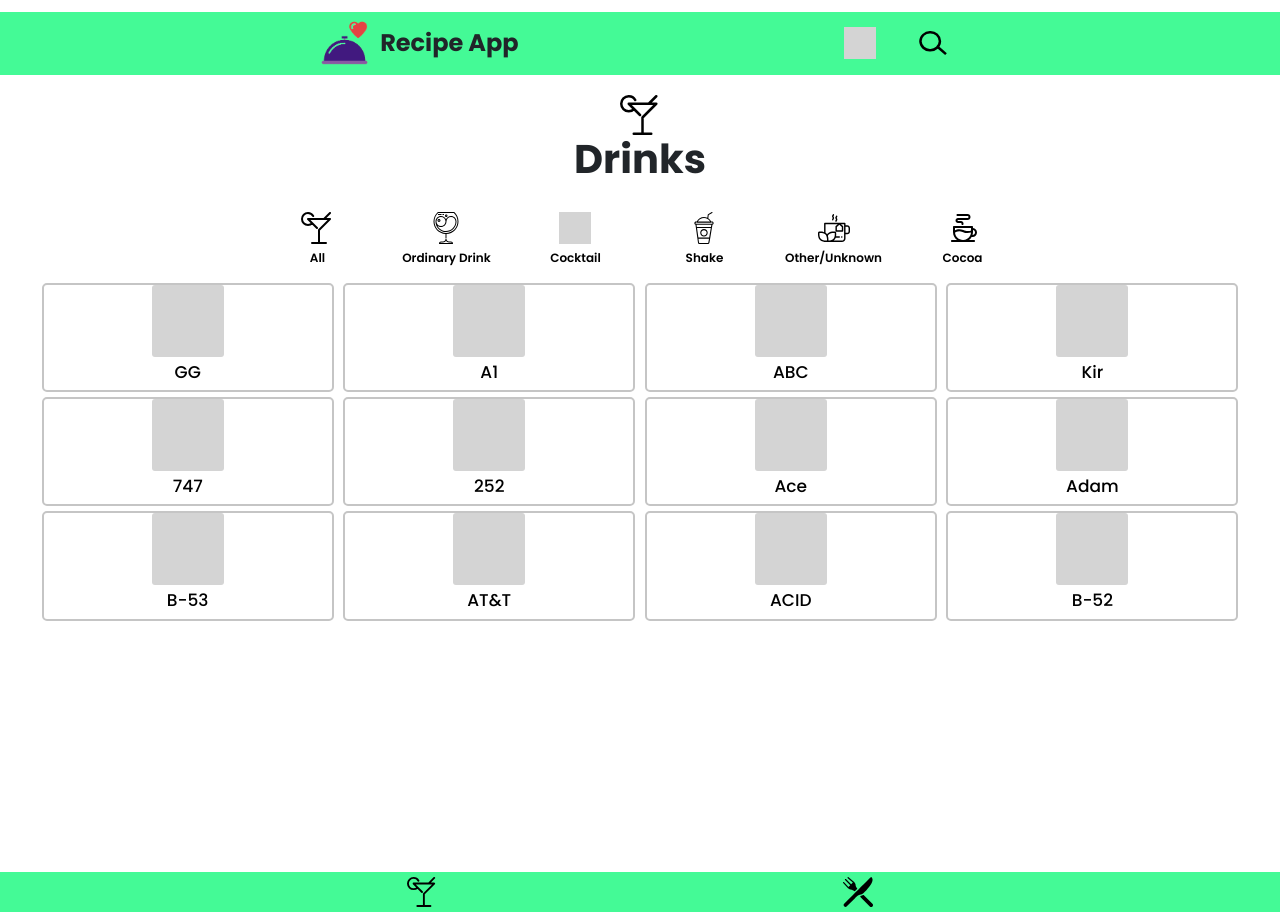
Teste da rota "/drinks" › Verifica o filtro pela categoria "Cocktail"
Click the button with test id "Cocktail-category-filter". click: click(575, 239)
box: [514, 210, 637, 268]
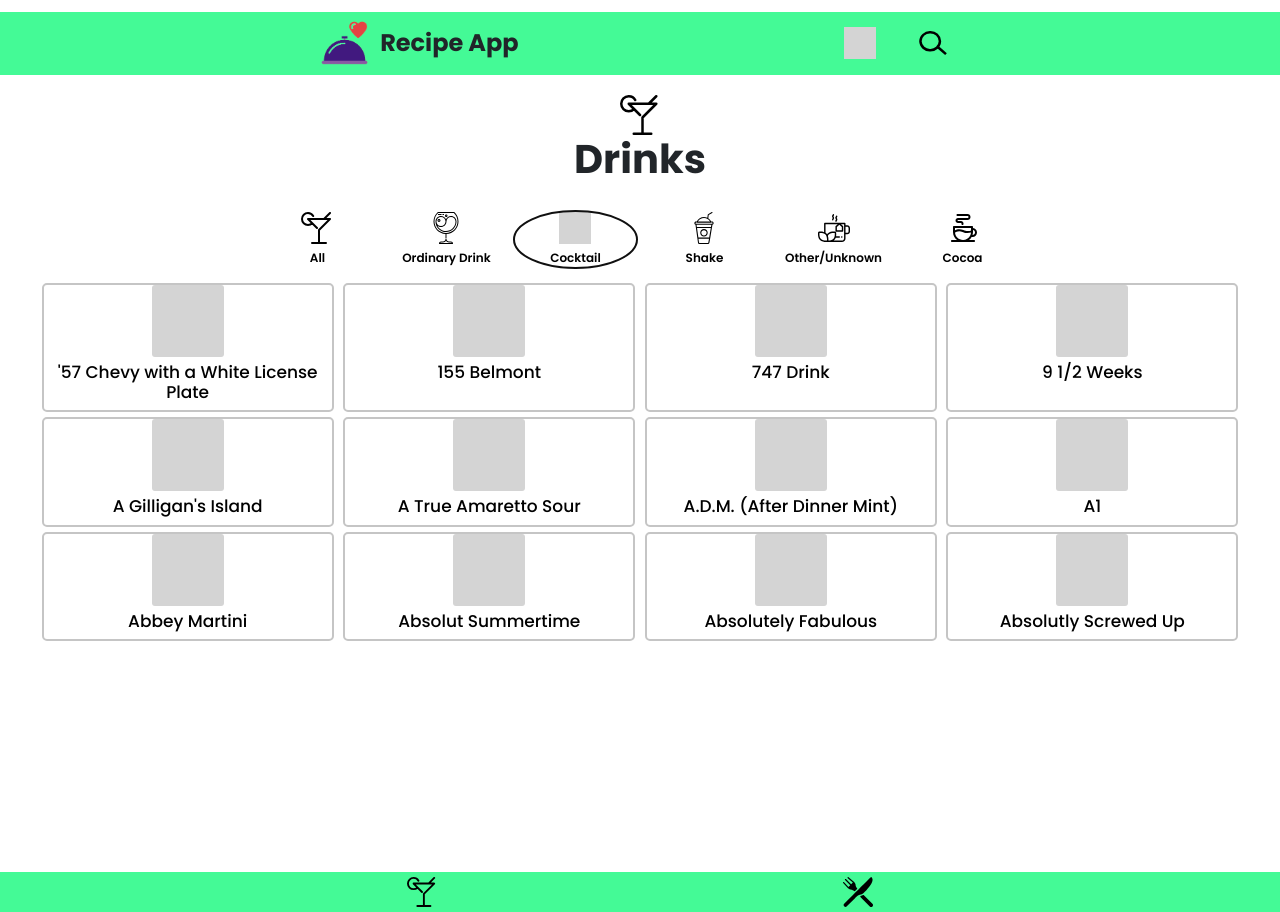
Now the heading with test id "0-card-name" reads "'57 Chevy with a White License Plate", box [58, 360, 318, 404]
Click the button with test id "Cocktail-category-filter". click: click(575, 239)
box: [514, 210, 637, 268]
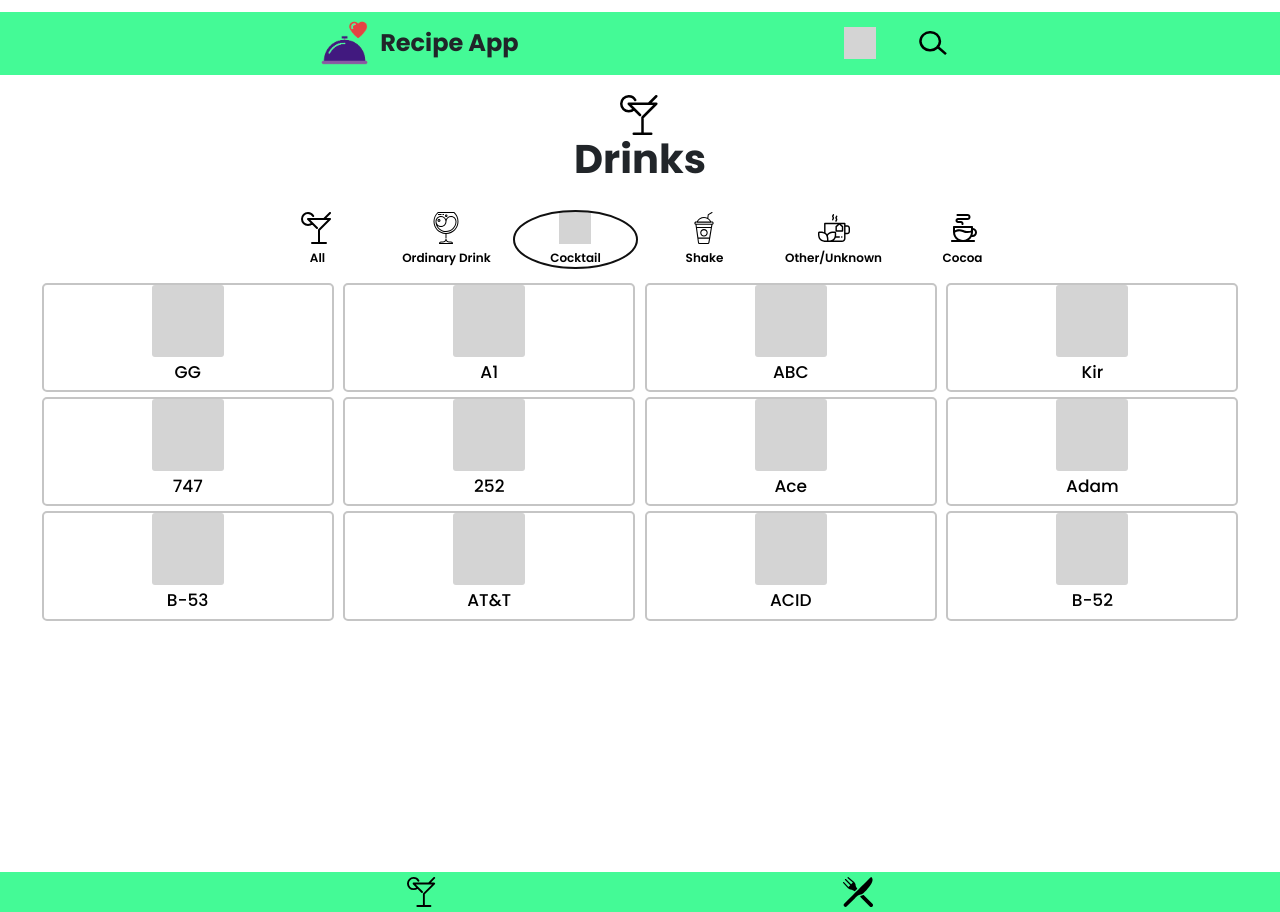
Now the heading with test id "0-card-name" reads "GG", box [174, 360, 201, 384]
